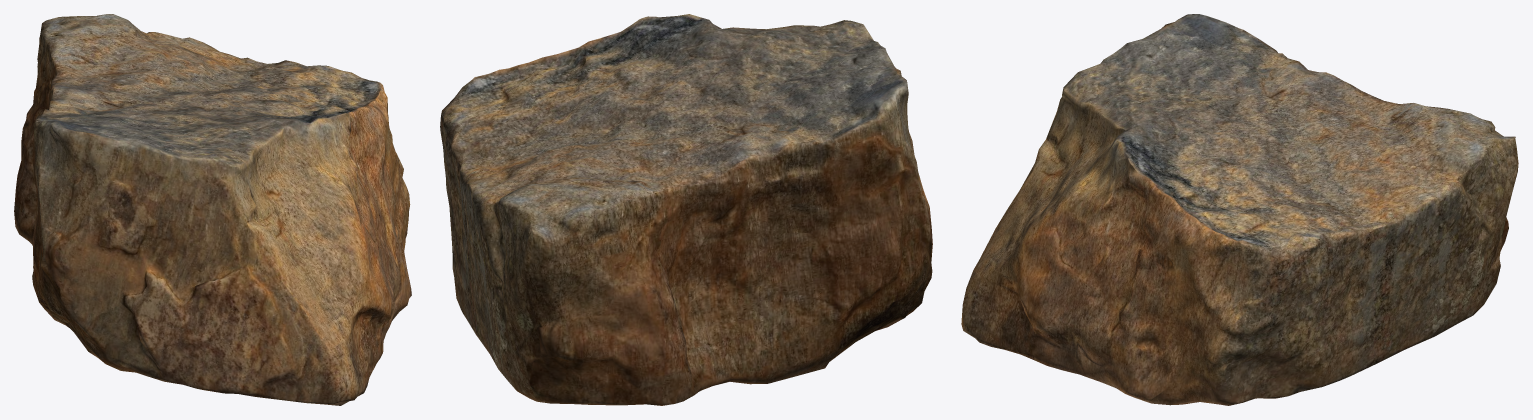
Rendered from bould2.glb.
The picture shows the model from 3 angles, left to right: view 1: azimuth 30°, elevation 25°; view 2: azimuth 150°, elevation 25°; view 3: azimuth 270°, elevation 25°; orthographic projection. The views are drawn at different scales.
Visible parts, largest first — view 1: bould2; view 2: bould2; view 3: bould2.
Part boxes in pixels (left/top/right/bottom): bould2: left=14, top=14, right=411, bottom=405; bould2: left=440, top=14, right=932, bottom=405; bould2: left=961, top=14, right=1518, bottom=405.
Size of the model in its own units: 2.4 by 1.47 by 3.06.
1 material, 1 textured.
